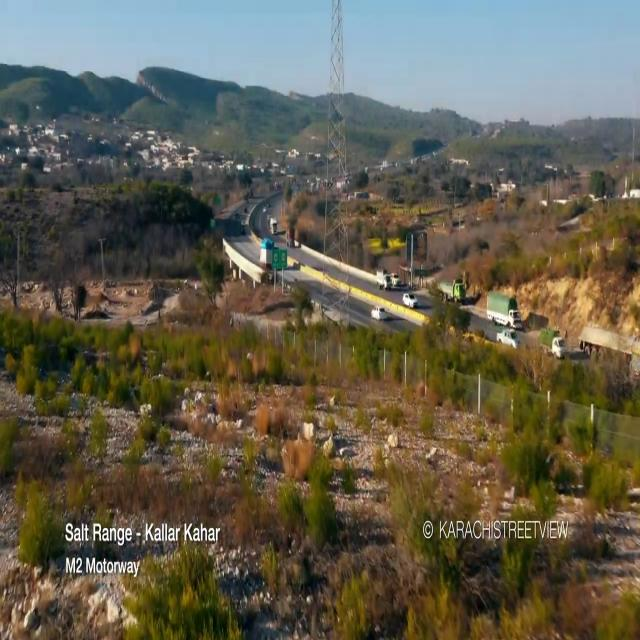car: (494, 325, 520, 357), (369, 303, 391, 324), (402, 288, 419, 312)
truck: (484, 288, 524, 330), (535, 323, 565, 365), (435, 274, 470, 308)
